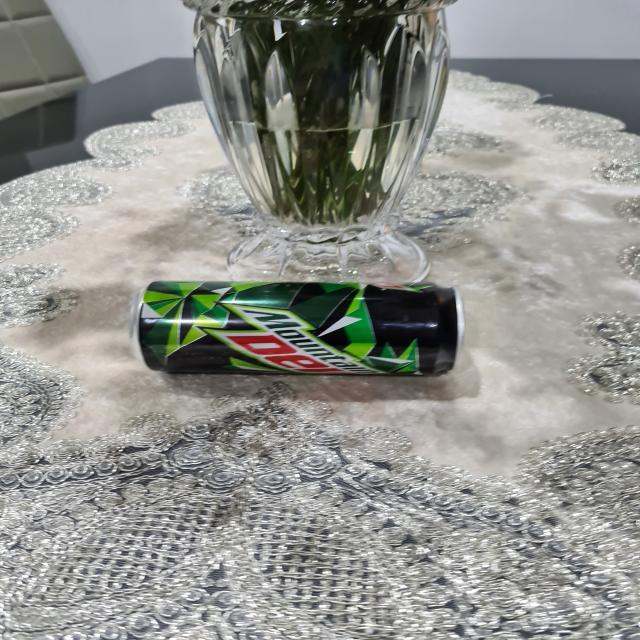can: (114, 280, 474, 382)
